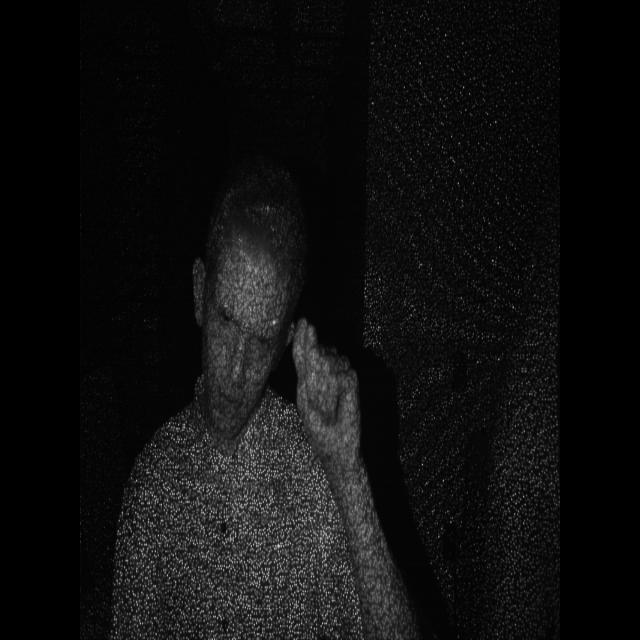T: (288, 321, 382, 504)
